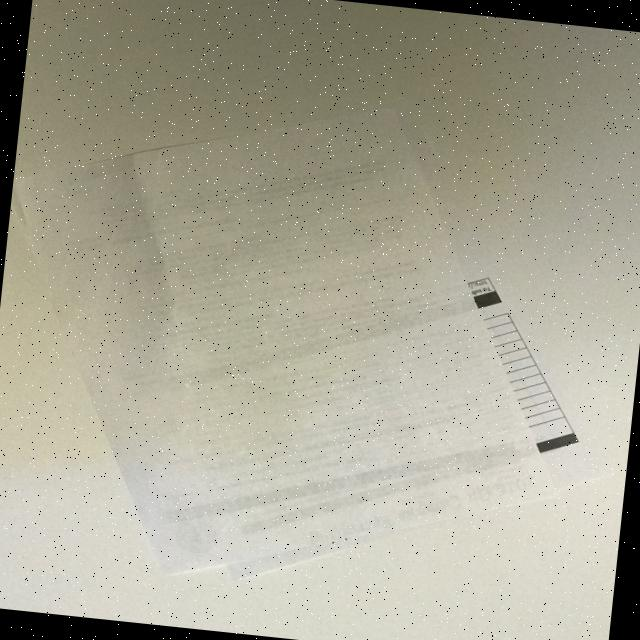paper: (0, 64, 624, 619)
